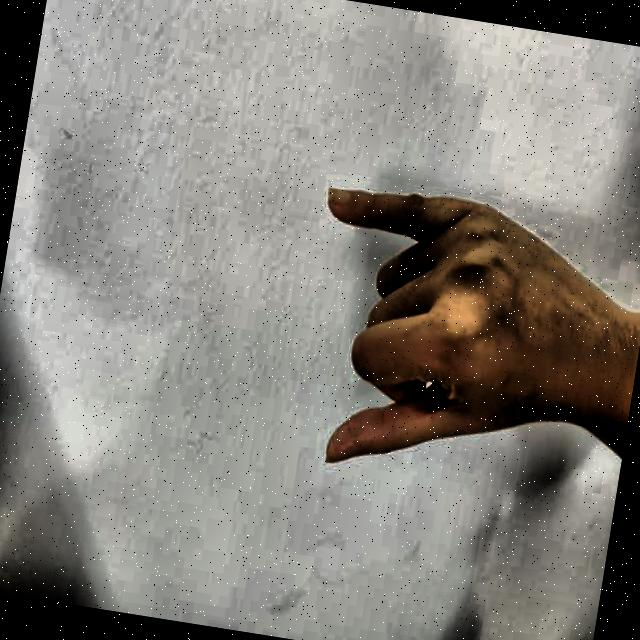Oi: (254, 119, 626, 556)
